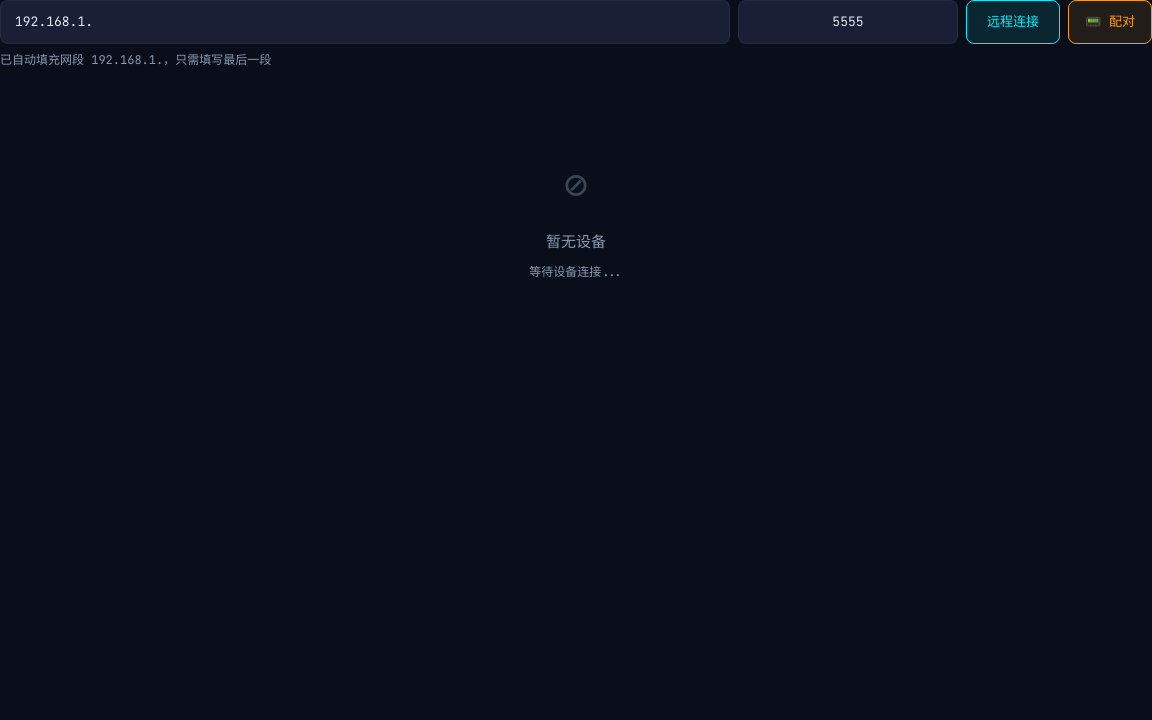
Test case: DeviceGrid.vue › 网段自动预填（getNetworkInfo） › 打开配对弹窗时 IP 输入框预填网段前缀
Click the button with class "btn-pair".
click(1110, 22)  # box [1068,0,1151,44]
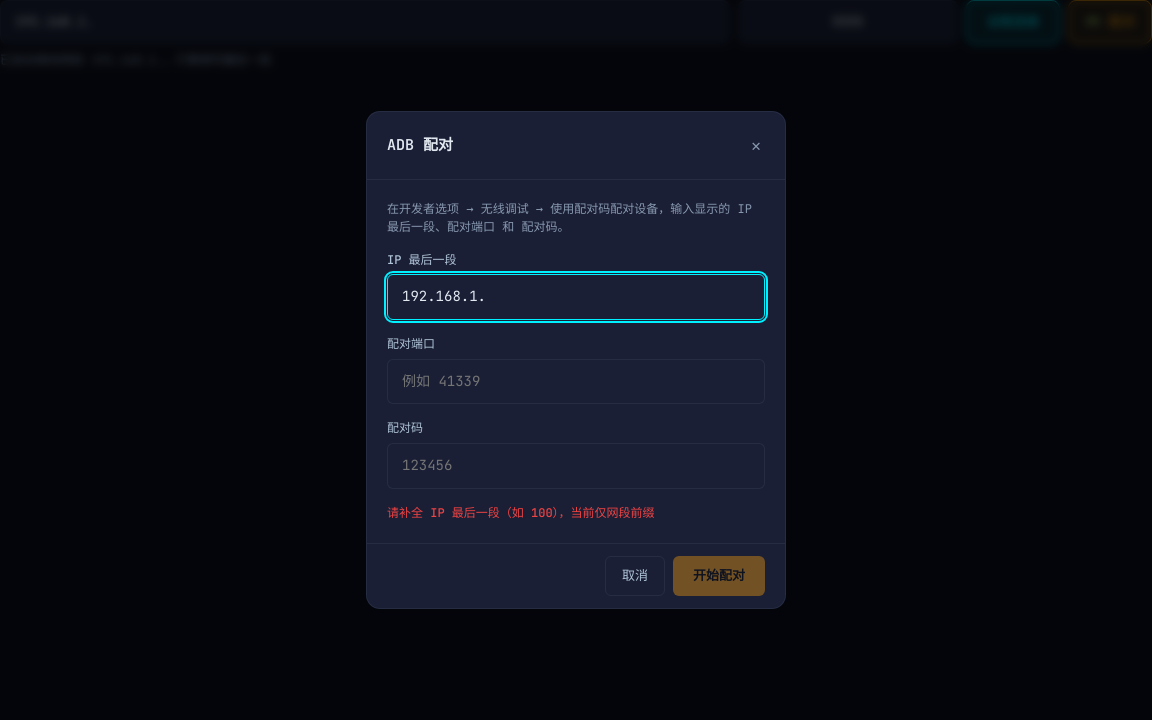
expect the field labelled "IP 最后一段" holds "192.168.1.": met, box [387,274,765,320]
